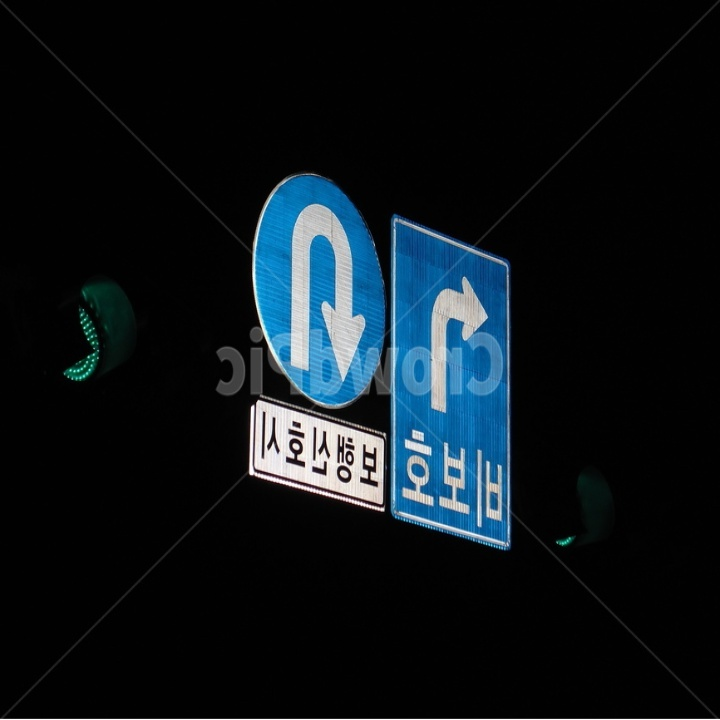right: (417, 271, 495, 424)
